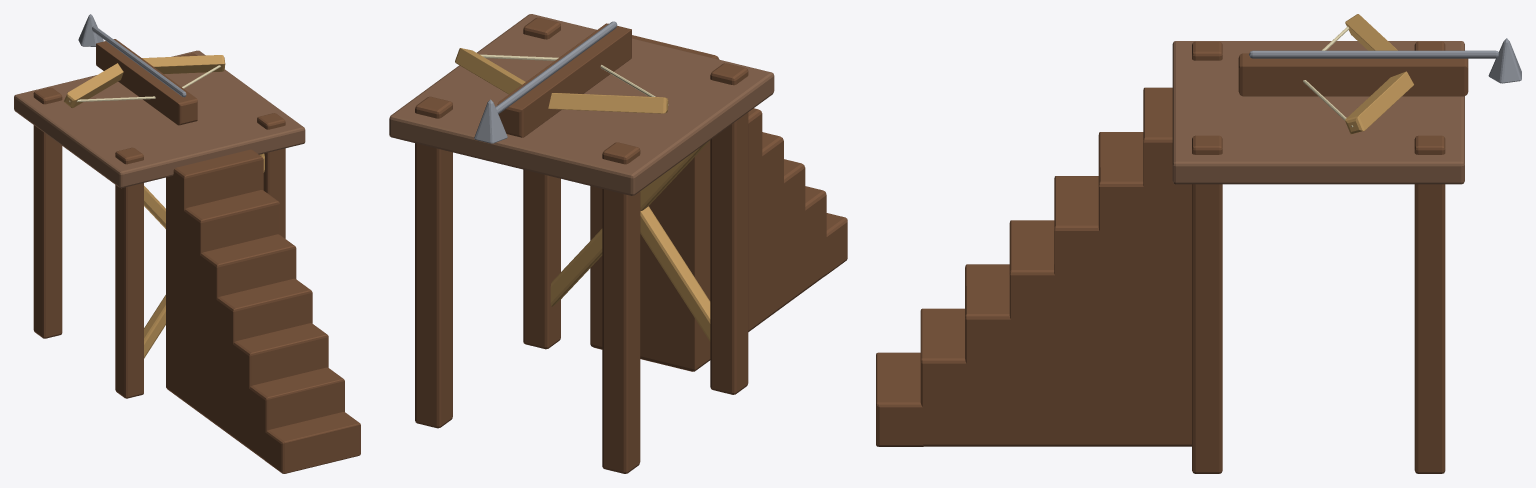
File: watchtower.glb
3 renders of one model, left to right at view 1: azimuth 30°, elevation 25°; view 2: azimuth 150°, elevation 25°; view 3: azimuth 270°, elevation 25°, orthographic. The views are drawn at different scales.
Parts seen in each view (by area): view 1: _MeshInstance3D_421, _MeshInstance3D_428, _MeshInstance3D_427, _MeshInstance3D_426, _MeshInstance3D_416, _MeshInstance3D_415, _MeshInstance3D_425, _MeshInstance3D_424, _MeshInstance3D_423, _MeshInstance3D_422, _MeshInstance3D_429, _MeshInstance3D_418 (+6 smaller); view 2: _MeshInstance3D_421, _MeshInstance3D_428, _MeshInstance3D_415, _MeshInstance3D_417, _MeshInstance3D_416, _MeshInstance3D_418, _MeshInstance3D_429, _MeshInstance3D_425, _MeshInstance3D_426, _MeshInstance3D_424, _MeshInstance3D_419, _MeshInstance3D_420 (+6 smaller); view 3: _MeshInstance3D_421, _MeshInstance3D_428, _MeshInstance3D_427, _MeshInstance3D_426, _MeshInstance3D_425, _MeshInstance3D_417, _MeshInstance3D_418, _MeshInstance3D_424, _MeshInstance3D_429, _MeshInstance3D_423, _MeshInstance3D_422, _MeshInstance3D_434 (+3 smaller).
Boxes of the visible parts, left/top/right/bottom form: _MeshInstance3D_421: left=14, top=50, right=305, bottom=188; _MeshInstance3D_428: left=166, top=149, right=263, bottom=401; _MeshInstance3D_427: left=182, top=190, right=279, bottom=413; _MeshInstance3D_426: left=199, top=234, right=296, bottom=425; _MeshInstance3D_416: left=115, top=147, right=143, bottom=398; _MeshInstance3D_415: left=33, top=87, right=62, bottom=338; _MeshInstance3D_425: left=215, top=278, right=312, bottom=437; _MeshInstance3D_424: left=231, top=323, right=328, bottom=449; _MeshInstance3D_423: left=248, top=367, right=344, bottom=460; _MeshInstance3D_422: left=265, top=412, right=360, bottom=473; _MeshInstance3D_429: left=96, top=39, right=197, bottom=125; _MeshInstance3D_418: left=257, top=113, right=285, bottom=238; _MeshInstance3D_421: left=389, top=14, right=774, bottom=195; _MeshInstance3D_428: left=590, top=35, right=719, bottom=371; _MeshInstance3D_415: left=602, top=142, right=640, bottom=473; _MeshInstance3D_417: left=415, top=96, right=452, bottom=428; _MeshInstance3D_416: left=710, top=63, right=748, bottom=394; _MeshInstance3D_418: left=523, top=17, right=560, bottom=349; _MeshInstance3D_429: left=497, top=23, right=631, bottom=137; _MeshInstance3D_425: left=760, top=132, right=783, bottom=322; _MeshInstance3D_426: left=748, top=108, right=762, bottom=331; _MeshInstance3D_424: left=782, top=159, right=805, bottom=306; _MeshInstance3D_419: left=640, top=206, right=710, bottom=341; _MeshInstance3D_420: left=550, top=140, right=710, bottom=306; _MeshInstance3D_421: left=1172, top=41, right=1464, bottom=184; _MeshInstance3D_428: left=1143, top=87, right=1191, bottom=446; _MeshInstance3D_427: left=1098, top=132, right=1148, bottom=446; _MeshInstance3D_426: left=1054, top=176, right=1103, bottom=446; _MeshInstance3D_425: left=1009, top=220, right=1058, bottom=446; _MeshInstance3D_417: left=1414, top=135, right=1445, bottom=473; _MeshInstance3D_418: left=1192, top=135, right=1222, bottom=473; _MeshInstance3D_424: left=965, top=264, right=1013, bottom=446; _MeshInstance3D_429: left=1238, top=53, right=1468, bottom=96; _MeshInstance3D_423: left=920, top=308, right=968, bottom=446; _MeshInstance3D_422: left=876, top=352, right=923, bottom=446; _MeshInstance3D_434: left=1249, top=50, right=1498, bottom=58.
Bounding box in the file's own units: 2.1 × 3.04 × 4.64.
